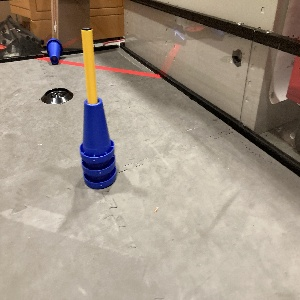Blue_1: (43, 37, 65, 65)
Blue_3: (73, 96, 121, 191)
